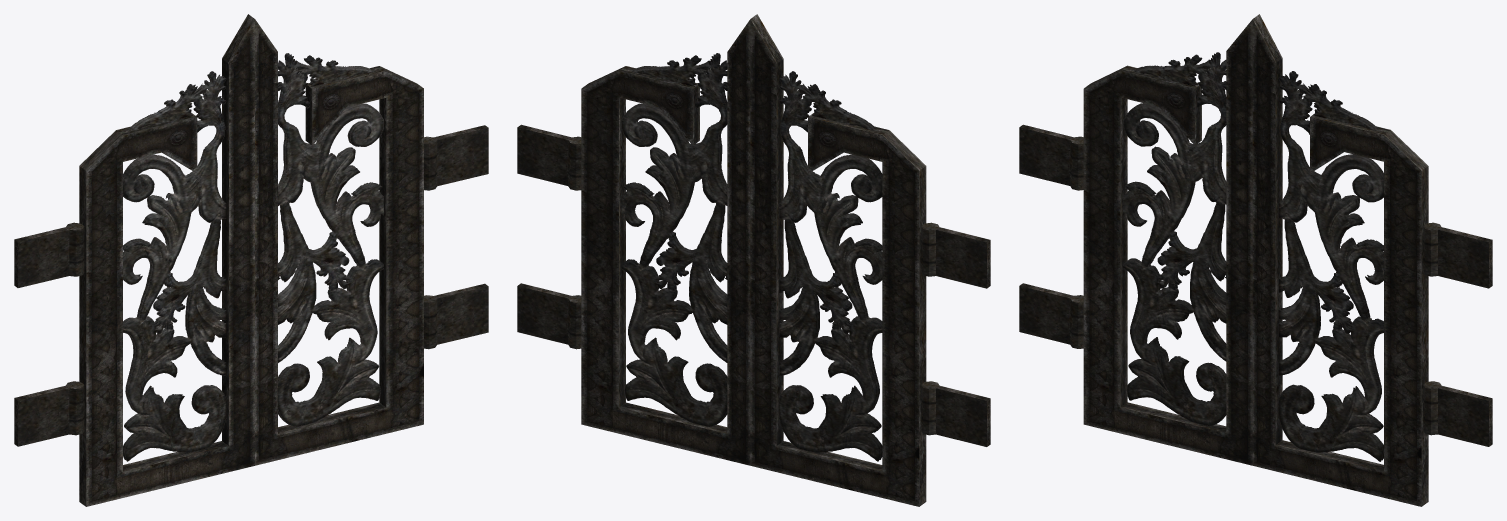
The model's file is elevator_door.dae.
3 views of the same model, side by side, from view 1: azimuth 30°, elevation 25°; view 2: azimuth 150°, elevation 25°; view 3: azimuth 330°, elevation 25° (orthographic).
Visible parts, largest first — view 1: elevleft, elevright, wallmounts; view 2: elevleft, elevright, wallmounts; view 3: elevright, elevleft, wallmounts.
Boxes of the visible parts, box(x1,y1,x2,y2) form: elevleft: box(79, 14, 254, 506); elevright: box(255, 19, 423, 465); wallmounts: box(14, 125, 488, 446); elevleft: box(750, 14, 926, 506); elevright: box(581, 19, 750, 465); wallmounts: box(517, 124, 990, 446); elevright: box(1252, 14, 1428, 506); elevleft: box(1083, 19, 1252, 465); wallmounts: box(1019, 124, 1492, 446).
Bounding box in the file's own units: 3.36 × 3.05 × 0.1071.
